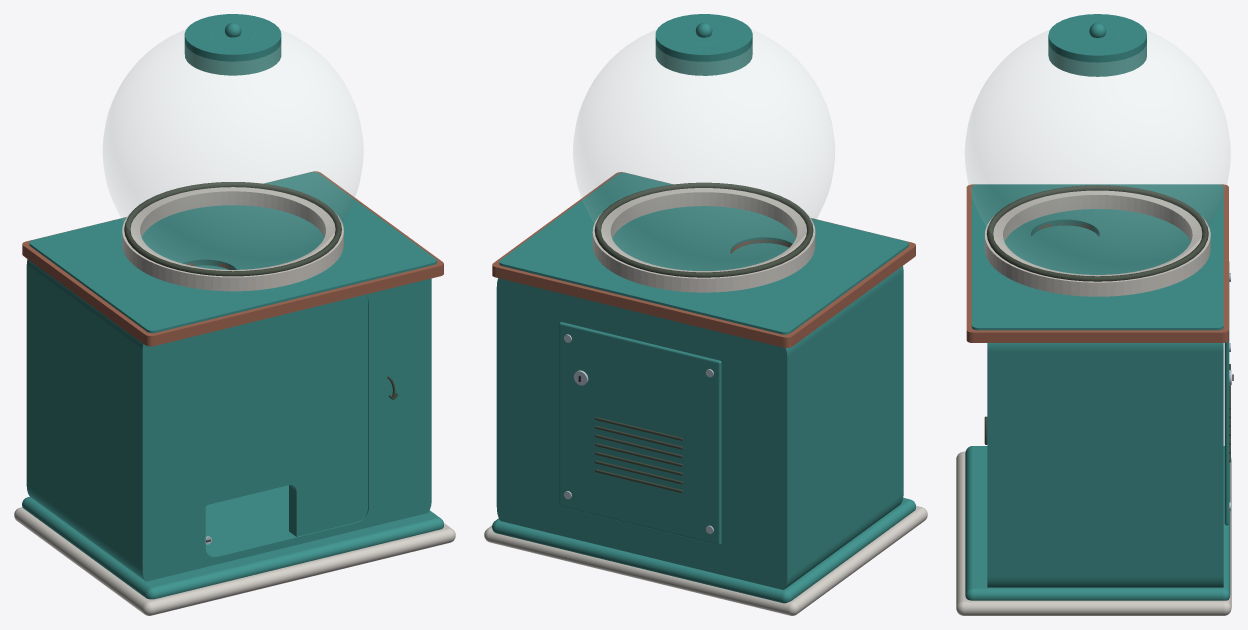
File: machine-garden.glb
3 views of the same model, side by side, from view 1: azimuth 30°, elevation 25°; view 2: azimuth 150°, elevation 25°; view 3: azimuth 270°, elevation 25° (orthographic).
Visible parts, largest first — view 1: CabinetShell_Batch0, CabinetShell_Batch2; view 2: CabinetShell_Batch0, CabinetShell_Batch2; view 3: CabinetShell_Batch0, CabinetShell_Batch2.
Boxes of the visible parts, x1=… form: CabinetShell_Batch0: x1=14, y1=14, x2=455, y2=615; CabinetShell_Batch2: x1=103, y1=30, x2=362, y2=270; CabinetShell_Batch0: x1=484, y1=14, x2=927, y2=615; CabinetShell_Batch2: x1=573, y1=30, x2=834, y2=271; CabinetShell_Batch0: x1=956, y1=14, x2=1233, y2=615; CabinetShell_Batch2: x1=965, y1=30, x2=1229, y2=275.
Bounding box in the file's own units: 0.283 × 0.4465 × 0.2137.
